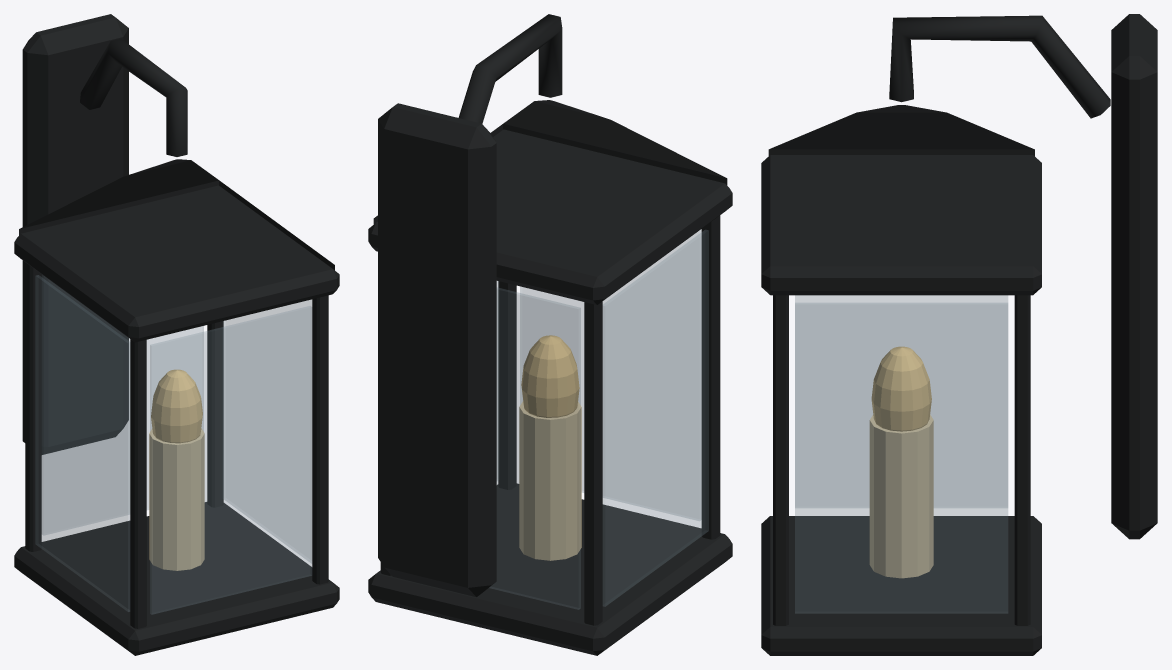
Rendered from CourtyardWallLantern.glb.
3 views of the same model, side by side, from view 1: azimuth 30°, elevation 25°; view 2: azimuth 150°, elevation 25°; view 3: azimuth 270°, elevation 25° (orthographic). The views are drawn at different scales.
Parts seen in each view (by area): view 1: GlassPane, LanternRim.001, LanternBackplate, GlassPane.002, LanternRim, GlassPane.001, GlassPane.003, CandleSleeve, LanternHood, LanternCorner, LanternCorner.002, LanternCorner.001 (+3 smaller); view 2: LanternBackplate, GlassPane.002, GlassPane, LanternRim.001, GlassPane.001, LanternRim, CandleSleeve, LanternCorner, LanternHood, LanternCorner.001, LanternScrollArm, WarmBulb (+1 smaller); view 3: GlassPane.003, LanternRim.001, GlassPane.002, LanternRim, LanternBackplate, CandleSleeve, LanternHood, LanternScrollArm, LanternCorner.003, LanternCorner.002, WarmBulb.
Part boxes in pixels (x1,y1,x2,y2): GlassPane: [150, 306, 311, 614]; LanternRim.001: [14, 185, 339, 342]; LanternBackplate: [22, 14, 128, 454]; GlassPane.002: [35, 275, 129, 611]; LanternRim: [14, 502, 339, 655]; GlassPane.001: [42, 275, 203, 534]; GlassPane.003: [223, 300, 311, 562]; CandleSleeve: [149, 428, 204, 570]; LanternHood: [19, 159, 334, 270]; LanternCorner: [130, 339, 146, 628]; LanternCorner.002: [312, 295, 328, 584]; LanternCorner.001: [25, 262, 41, 551]; LanternBackplate: [378, 103, 496, 597]; GlassPane.002: [603, 230, 708, 606]; GlassPane: [520, 229, 701, 520]; LanternRim.001: [368, 129, 732, 304]; GlassPane.001: [489, 287, 580, 609]; LanternRim: [368, 483, 732, 655]; CandleSleeve: [519, 401, 581, 560]; LanternCorner: [701, 215, 720, 539]; LanternHood: [373, 100, 727, 225]; LanternCorner.001: [584, 301, 602, 625]; LanternScrollArm: [458, 14, 562, 123]; WarmBulb: [521, 335, 579, 417]; GlassPane.003: [795, 303, 1007, 613]; LanternRim.001: [761, 155, 1041, 295]; GlassPane.002: [795, 295, 1007, 507]; LanternRim: [761, 516, 1041, 655]; LanternBackplate: [1111, 14, 1157, 539]; CandleSleeve: [869, 414, 933, 578]; LanternHood: [768, 105, 1034, 155]; LanternScrollArm: [889, 15, 1110, 118]; LanternCorner.003: [1014, 295, 1030, 625]; LanternCorner.002: [773, 295, 788, 625]; WarmBulb: [871, 346, 931, 431].
Bounding box in the file's own units: 0.79 × 1.81 × 1.12.
